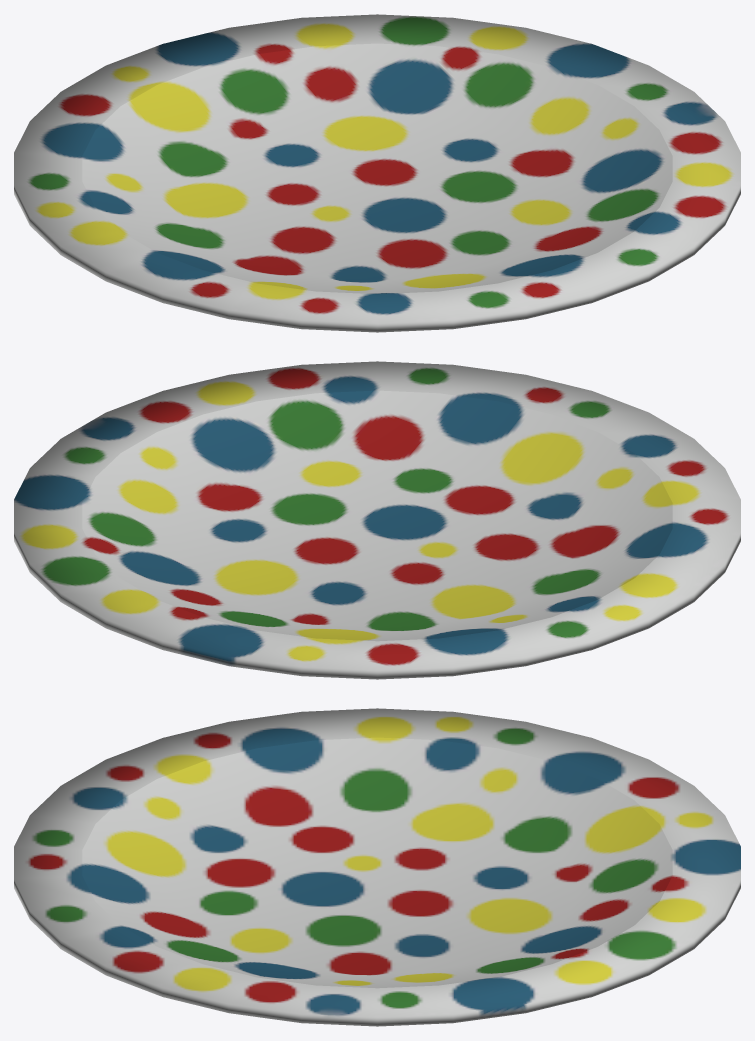
Rendered from assiette1.fbx.
The picture shows the model from 3 angles, top to bottom: view 1: azimuth 30°, elevation 25°; view 2: azimuth 150°, elevation 25°; view 3: azimuth 270°, elevation 25°; orthographic projection.
Visible parts, largest first — view 1: SM_plate_redwhite; view 2: SM_plate_redwhite; view 3: SM_plate_redwhite.
Part boxes in pixels (x1=…): SM_plate_redwhite: x1=14, y1=14, x2=740, y2=332; SM_plate_redwhite: x1=14, y1=361, x2=740, y2=679; SM_plate_redwhite: x1=14, y1=708, x2=740, y2=1026.
Bounding box in the file's own units: 21.54 × 1.19 × 21.42.
